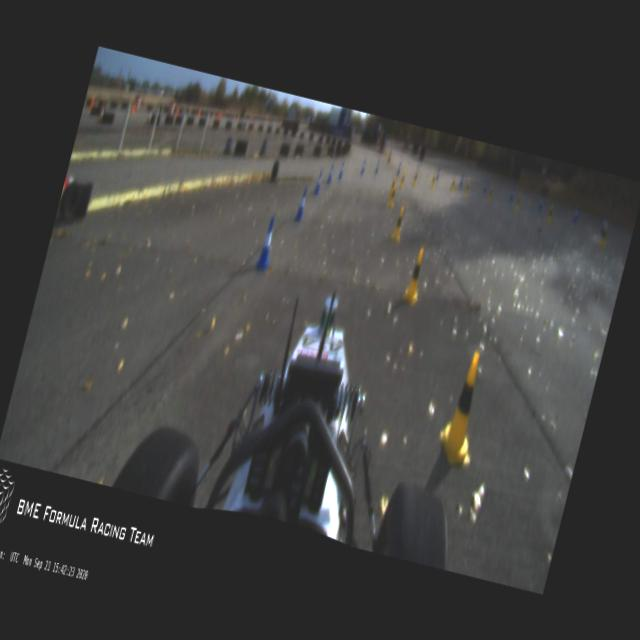blue_cone: (254, 217, 279, 270), (293, 186, 310, 222), (325, 162, 335, 185), (313, 172, 323, 194), (337, 160, 345, 179), (600, 218, 608, 236), (572, 206, 580, 223), (394, 162, 402, 178), (359, 160, 366, 176), (374, 158, 381, 174), (482, 178, 490, 192), (508, 186, 516, 200), (537, 196, 544, 210), (414, 164, 421, 178), (458, 173, 464, 188), (434, 166, 440, 181)
yellow_cone: (434, 347, 496, 466), (401, 244, 429, 307), (390, 205, 407, 242), (597, 224, 609, 250), (387, 184, 398, 209), (545, 204, 554, 224), (398, 170, 406, 190), (388, 176, 396, 196), (463, 179, 471, 198), (514, 192, 522, 211), (486, 184, 494, 202), (429, 172, 436, 188), (449, 176, 456, 192), (411, 172, 418, 188)
